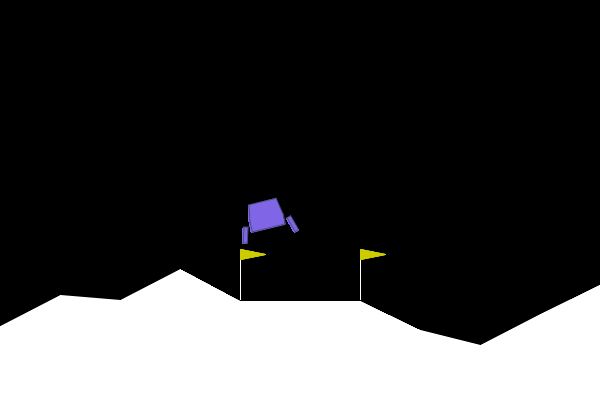lander: (232, 193, 300, 246)
